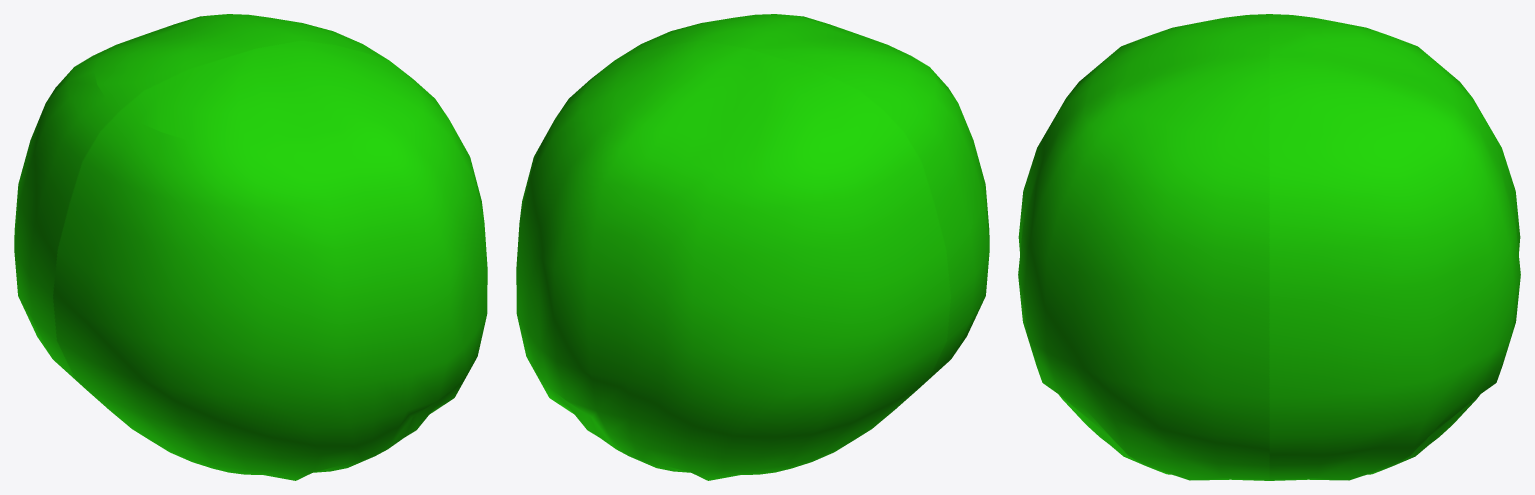
Rendered from BundinhaExtra.fbx.
3 views of the same model, side by side, from view 1: azimuth 30°, elevation 25°; view 2: azimuth 150°, elevation 25°; view 3: azimuth 270°, elevation 25° (orthographic).
Visible parts, largest first — view 1: Sphere.001; view 2: Sphere.001; view 3: Sphere.001.
Boxes of the visible parts, left/top/right/bottom form: Sphere.001: left=14, top=14, right=487, bottom=480; Sphere.001: left=516, top=14, right=989, bottom=480; Sphere.001: left=1018, top=14, right=1520, bottom=480.
Bounding box in the file's own units: 195 × 187 × 212.
